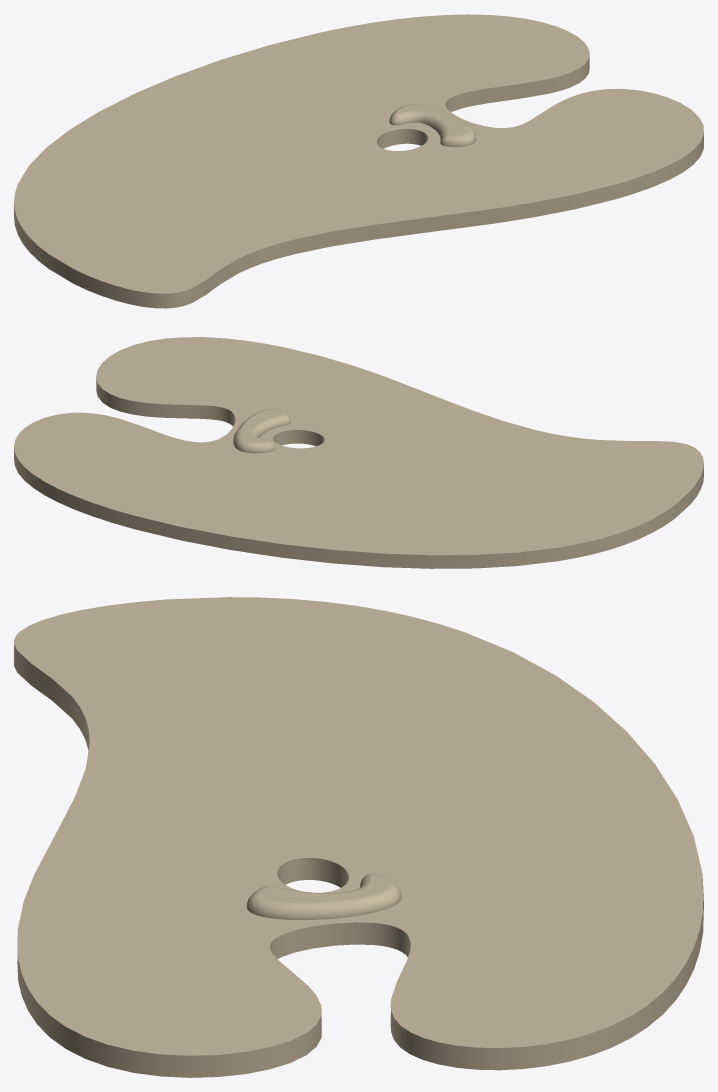
File: 364_木製パレットフランゼン型.glb
3 views of the same model, one above another, from view 1: azimuth 30°, elevation 25°; view 2: azimuth 150°, elevation 25°; view 3: azimuth 270°, elevation 25° (orthographic). The views are drawn at different scales.
Visible parts, largest first — view 1: Body1; view 2: Body1; view 3: Body1.
Boxes of the visible parts, left/top/right/bottom form: Body1: left=14, top=14, right=703, bottom=308; Body1: left=14, top=337, right=703, bottom=568; Body1: left=14, top=597, right=703, bottom=1077.
Size of the model in its own units: 0.5783 by 0.0201 by 0.3677.
